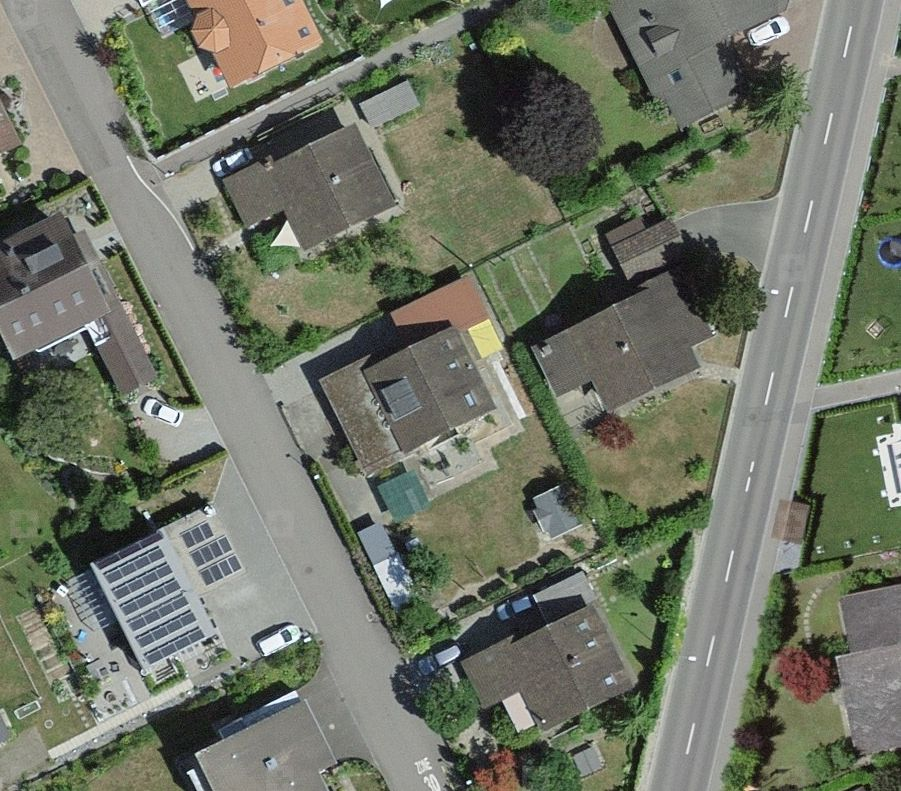solar: (95, 522, 242, 664)
